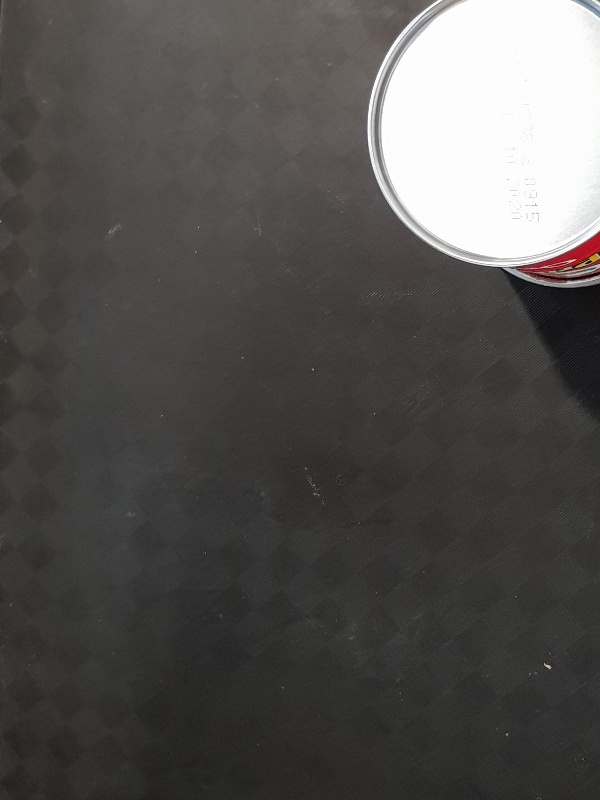Pringles Original: (366, 1, 600, 289)
